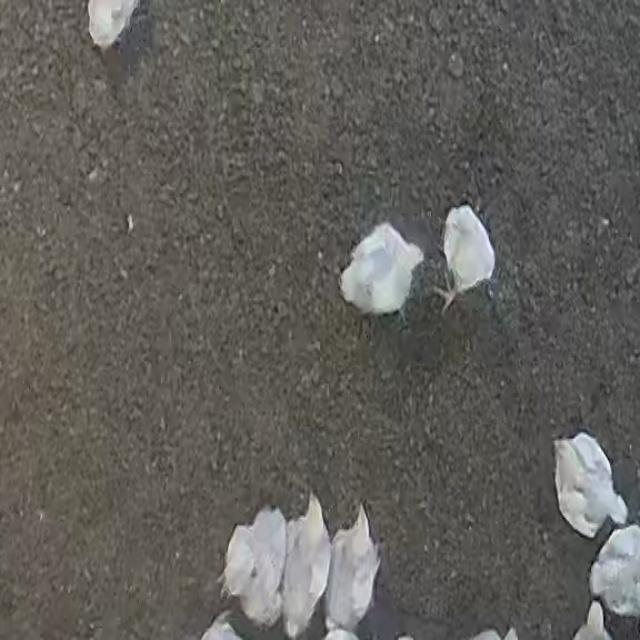chicken: (339, 221, 425, 328), (548, 425, 630, 535), (427, 199, 501, 317), (218, 503, 284, 629), (280, 487, 331, 638), (328, 496, 378, 636)
